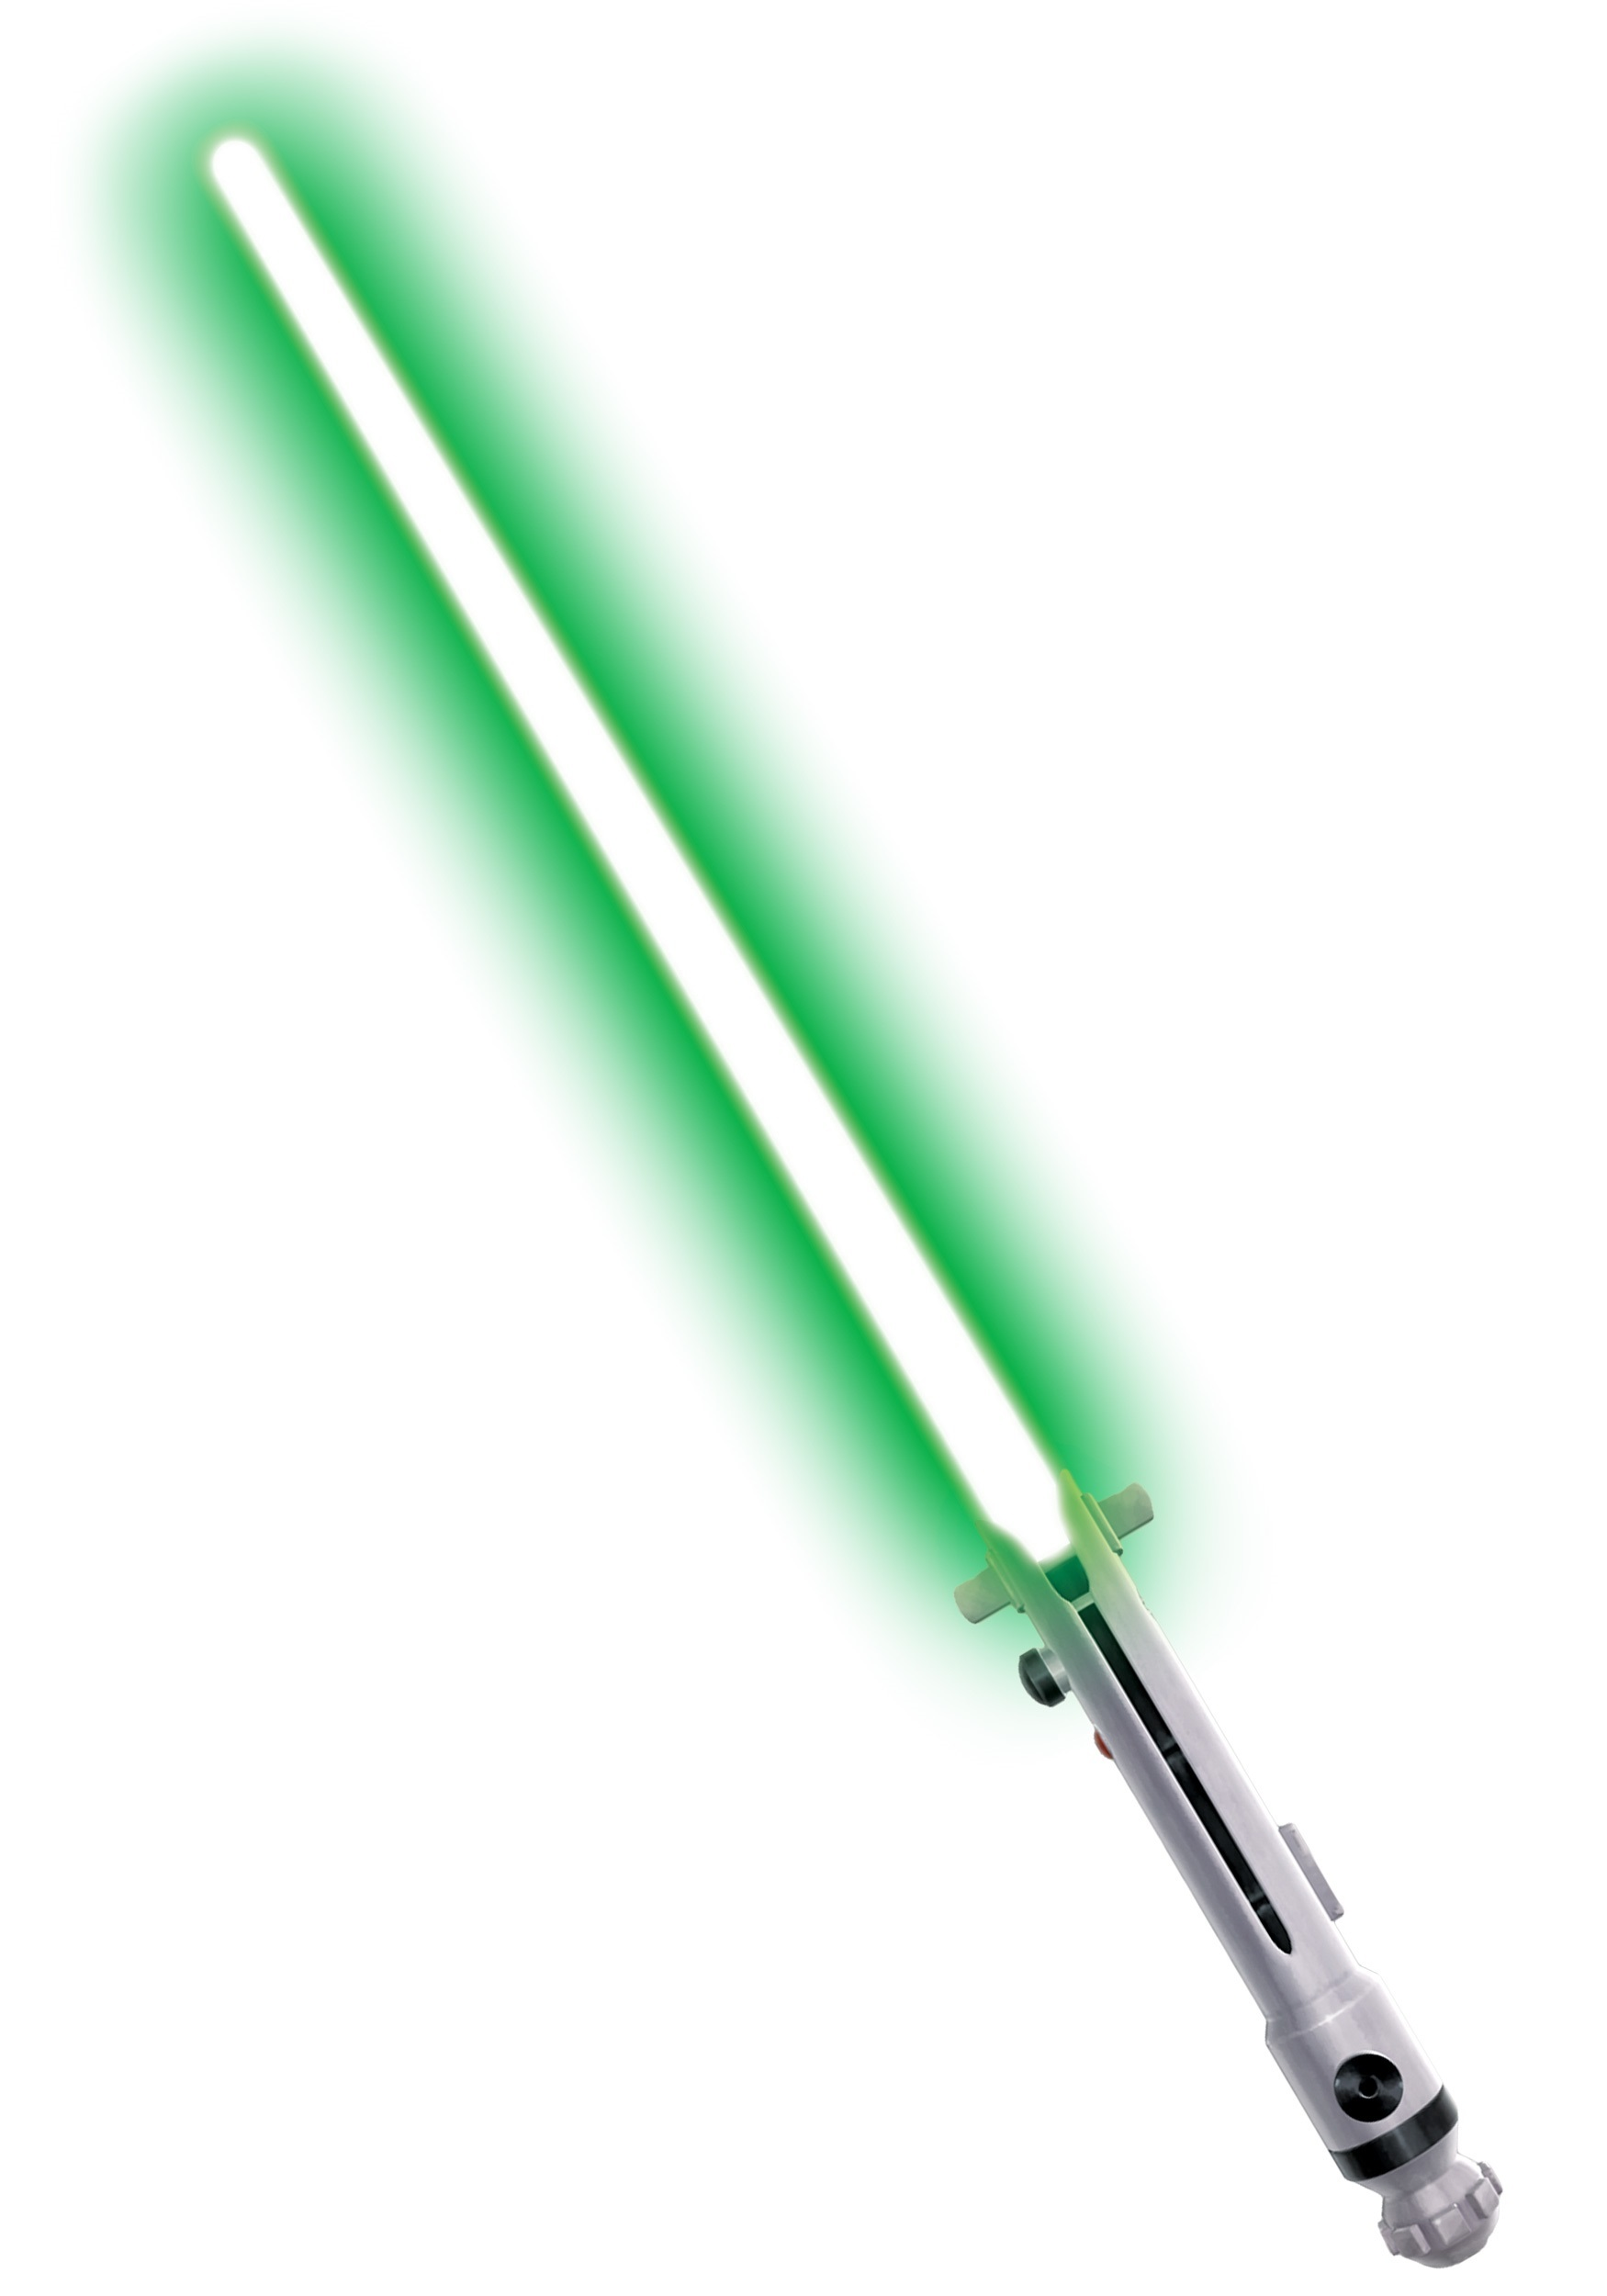lightsaber: (141, 68, 1431, 2209)
